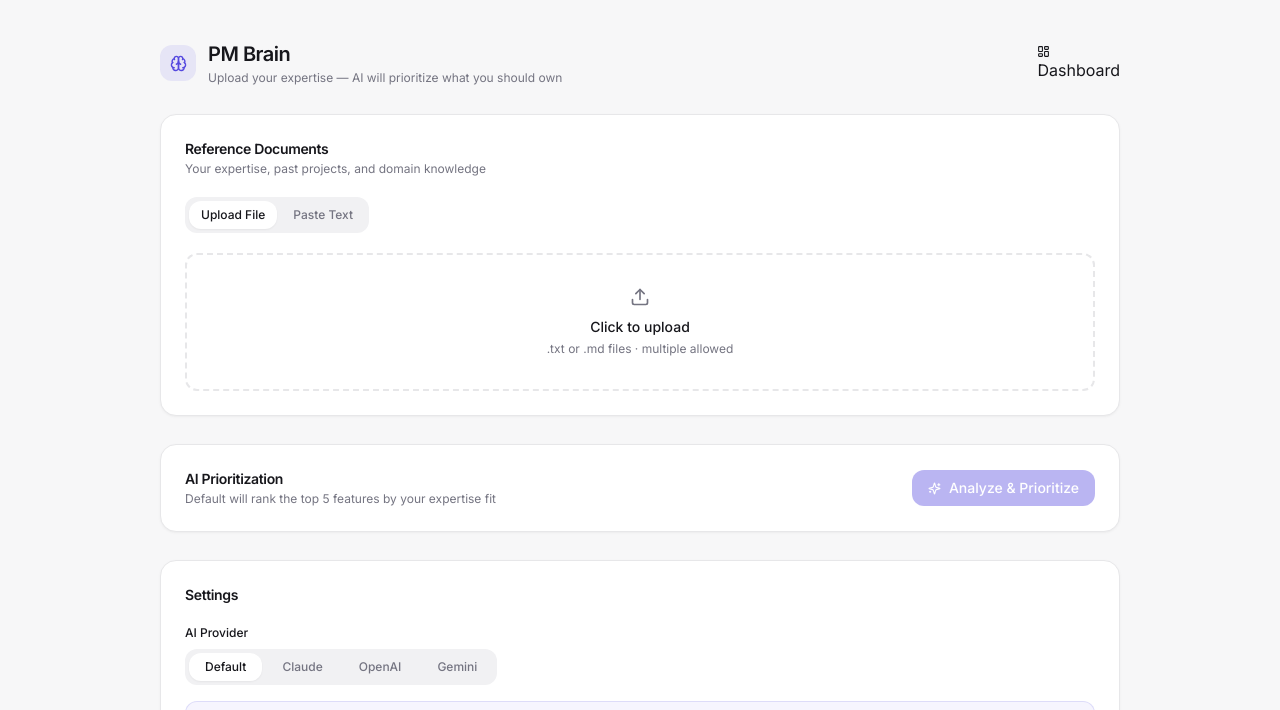
PM Brain Page › can paste and add a document
Click the button "Paste Text".
click(323, 215)  # box [281, 201, 365, 229]
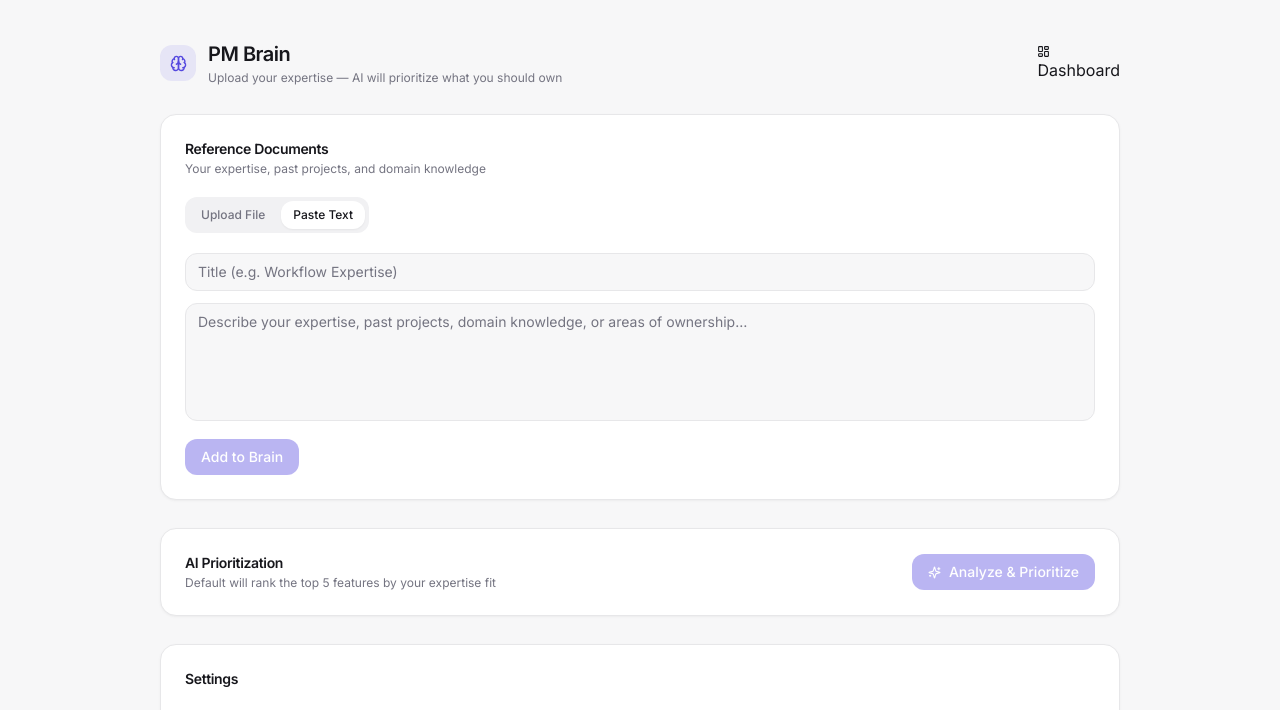
Type "My Expertise" into the field with placeholder "Title (e.g. Workflow Expertise)".
click(640, 272); type("My Expertise")  # box [185, 253, 1095, 291]
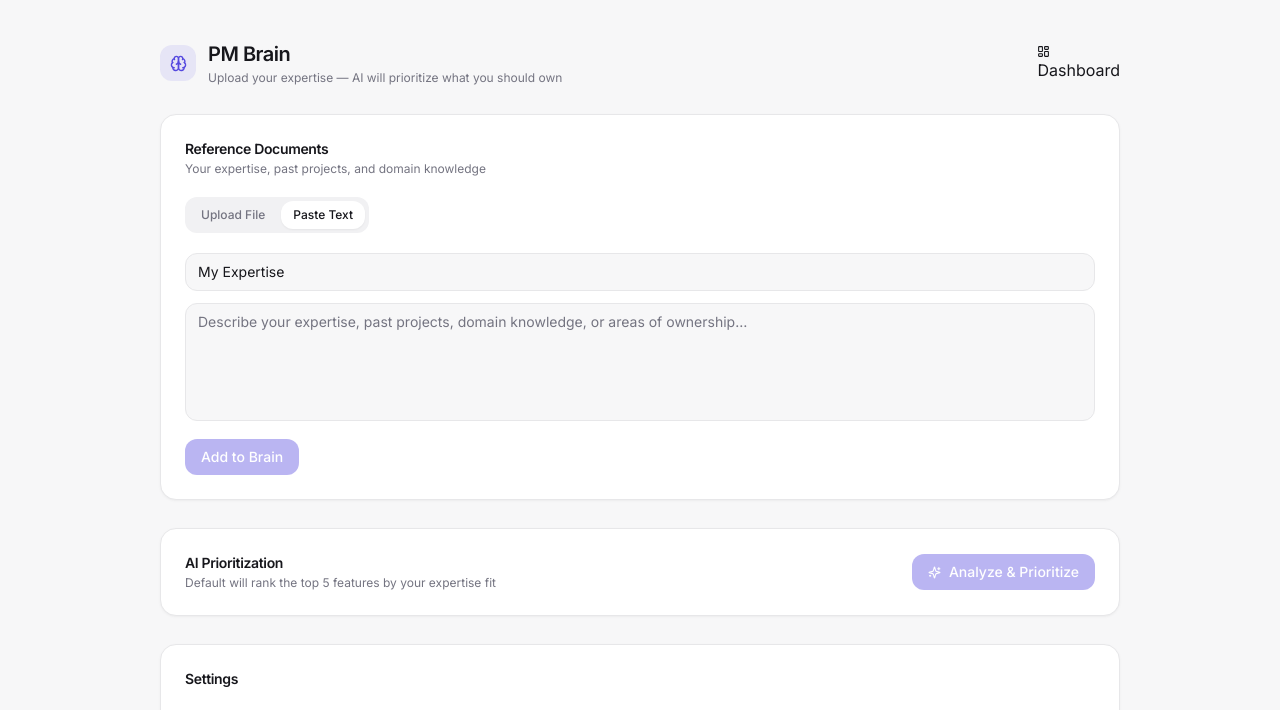
Replace the text in the text box with placeholder "Describe your" with "I know workflow automation." at (640, 362), box [185, 303, 1095, 421]
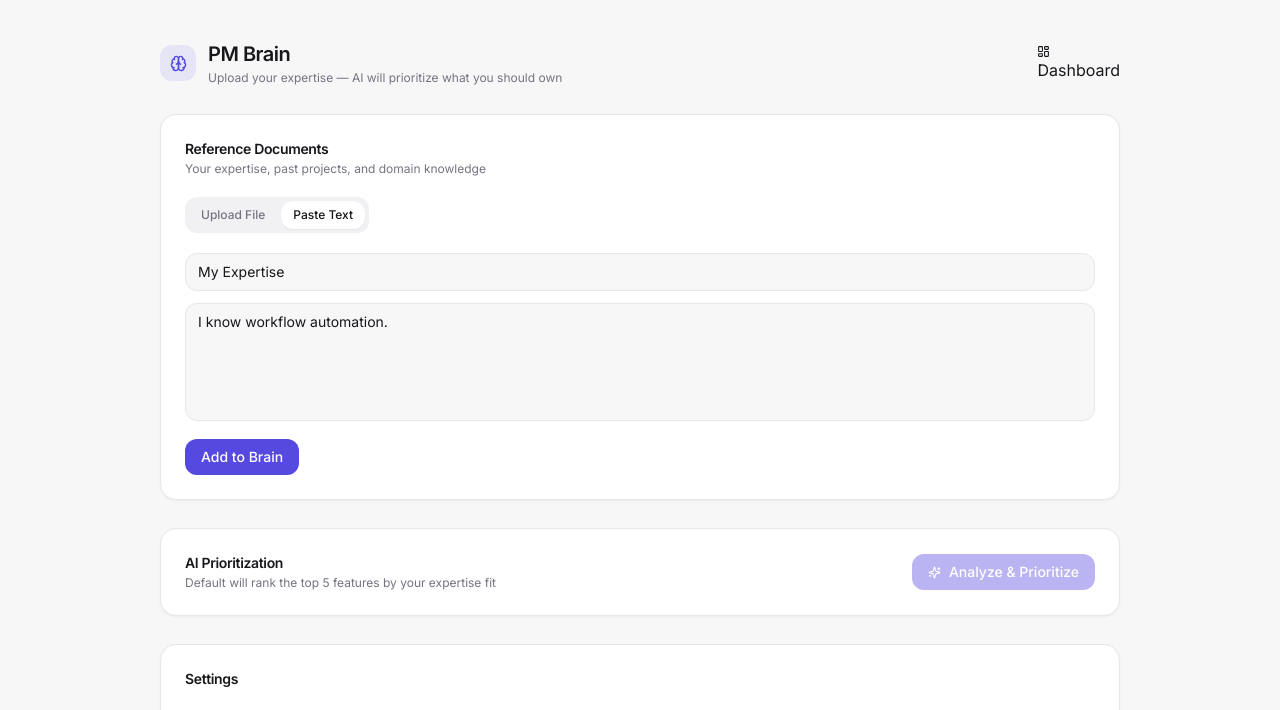
Click the button "Add to Brain".
click(242, 457)  # box [185, 439, 299, 475]
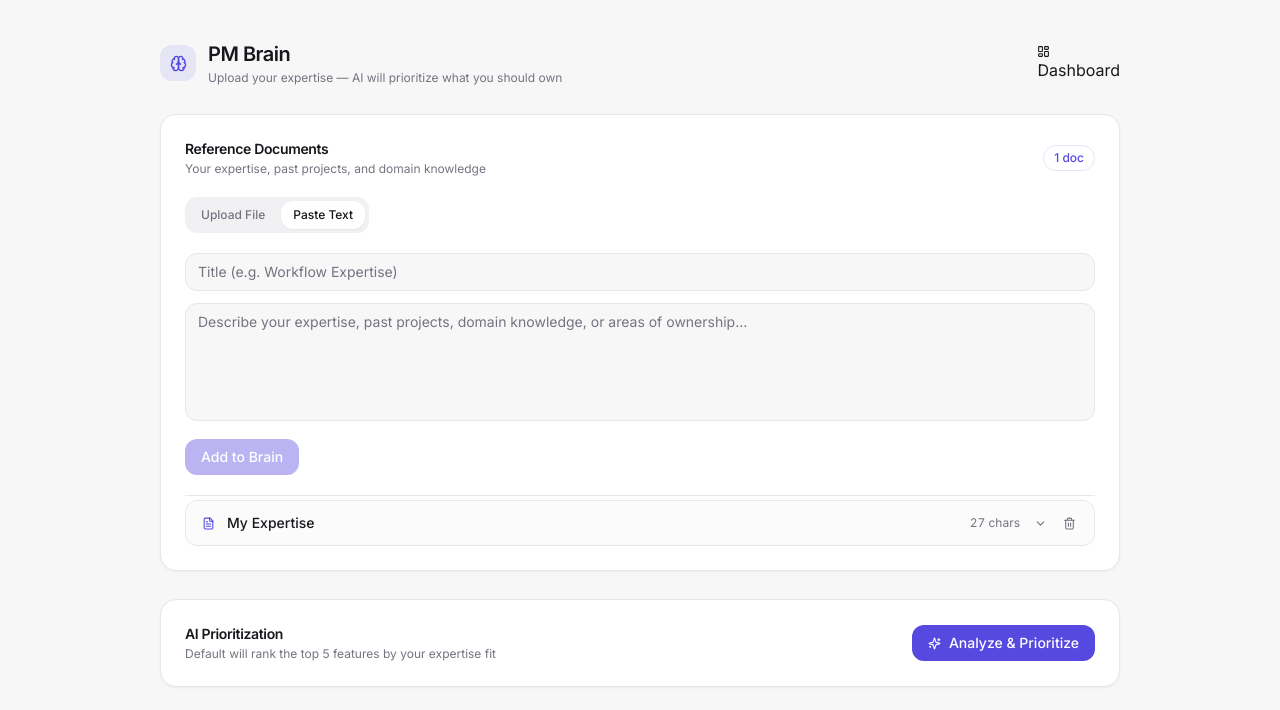
Result: the text "My Expertise" is shown at [227, 514, 314, 531]
Result: the text "1 doc" is shown at [1043, 145, 1095, 171]
